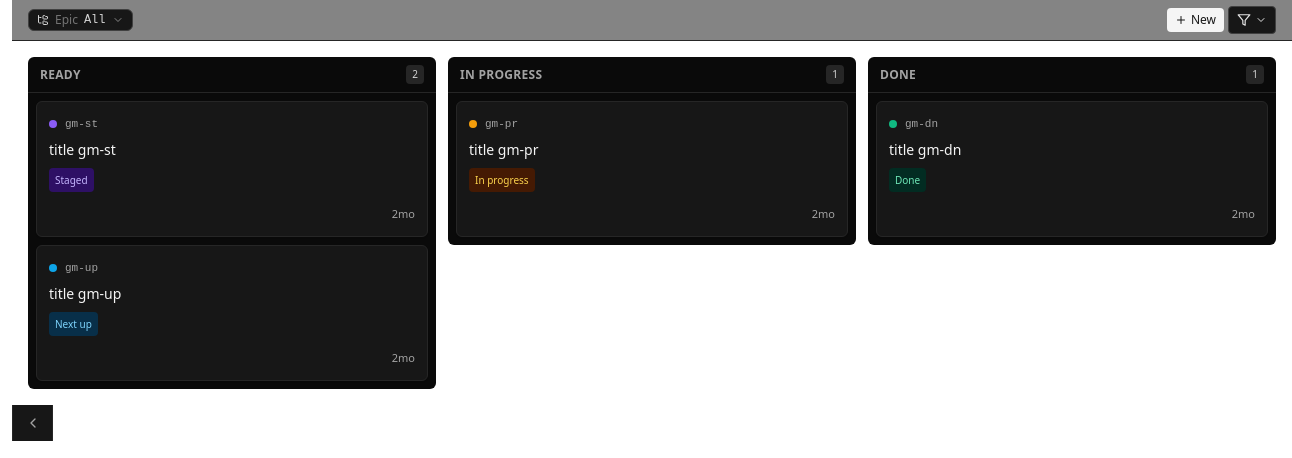
Scenario: BoardPage › show_backlog kanban toggle (gm-5ekd) › toggle click flips the URL param + persists to localStorage
Click the button with test id "board-filter-menu-button": (1252, 20) [1228,6,1276,34]
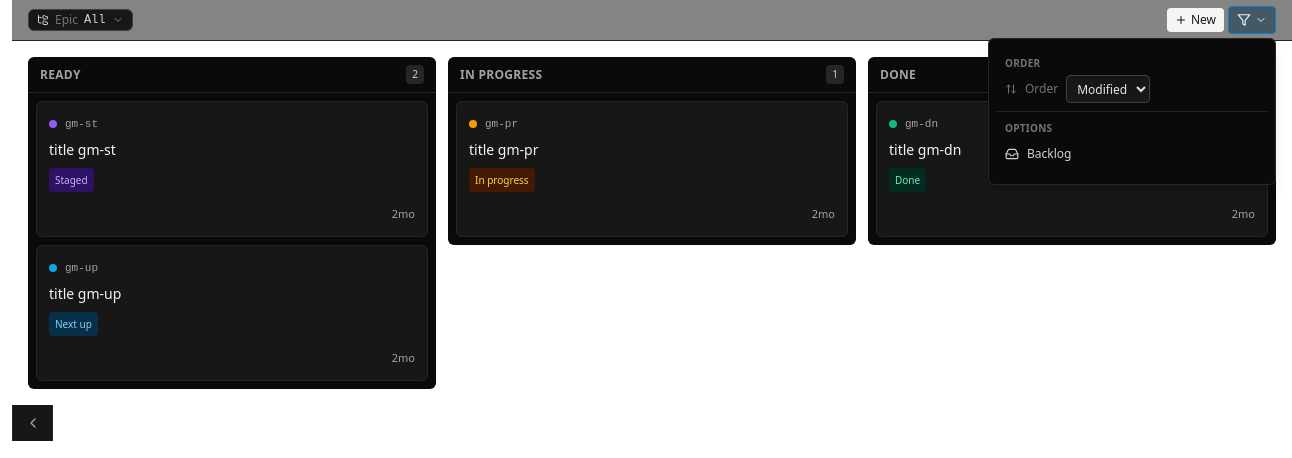
expect the menu with test id "board-filter-menu" is shown: met, box [988,38,1276,185]
Click the menu item with test id "board-show-backlog-toggle": (1049, 154) [997,140,1267,168]
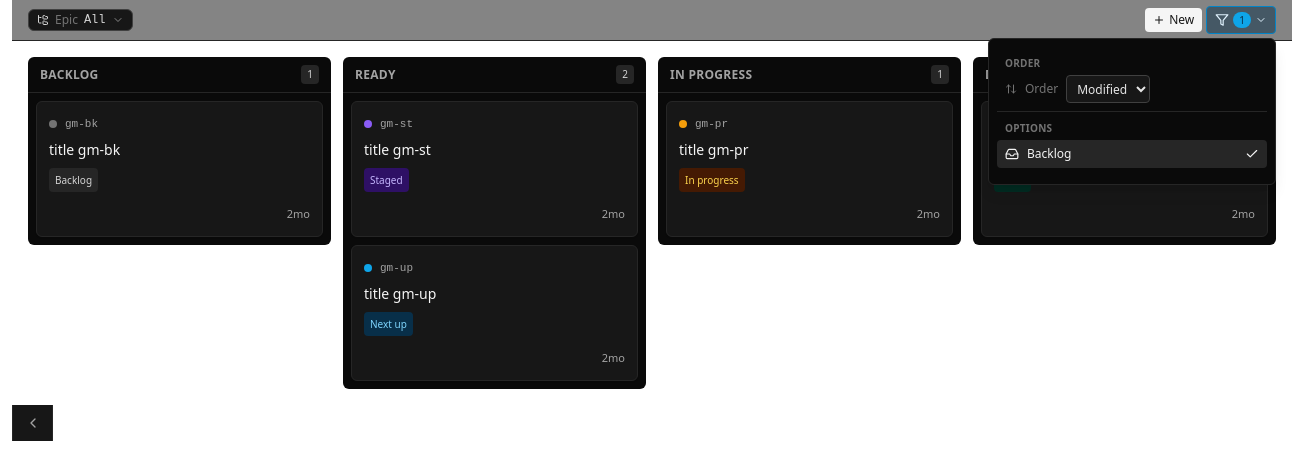
expect the element with test id "board-column-backlog" is shown: met, box [28,57,331,245]
Click the menu item with test id "board-show-backlog-toggle": (1049, 154) [997,140,1267,168]
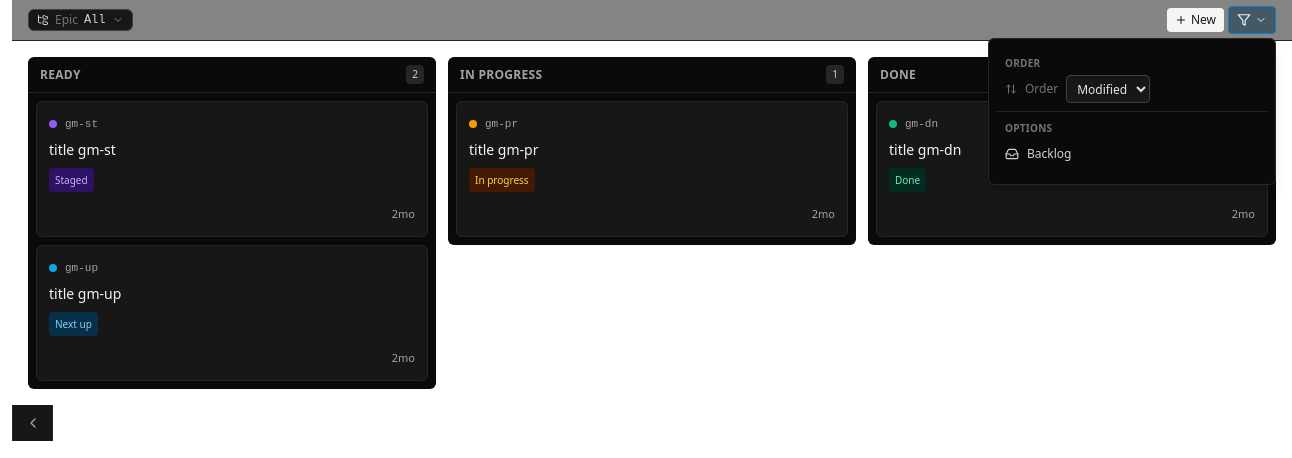
expect the element with test id "board-column-backlog" is gone: met
